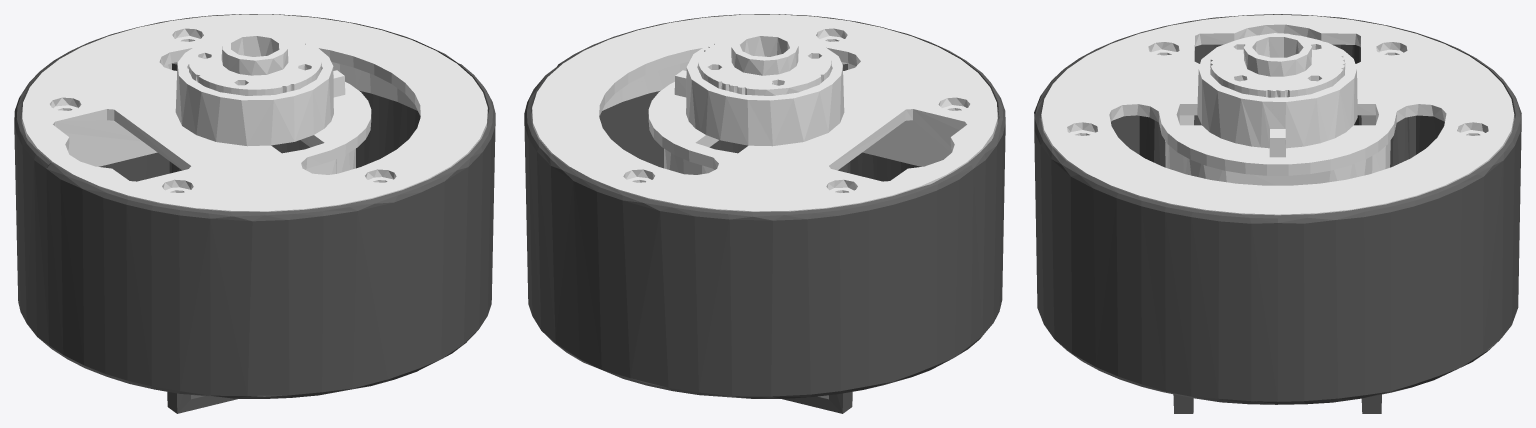
File: scara_id4.dae
3 views of the same model, side by side, from view 1: azimuth 30°, elevation 25°; view 2: azimuth 150°, elevation 25°; view 3: azimuth 270°, elevation 25° (orthographic).
Parts seen in each view (by area): view 1: ID4; view 2: ID4; view 3: ID4.
Boxes of the visible parts, x1,y1,x2,y2 form: ID4: (14, 14, 495, 413); ID4: (524, 14, 1005, 413); ID4: (1034, 14, 1521, 413).
Size of the model in its own units: 0.0579 by 0.0578 by 0.0396.
1 material, 1 textured.
